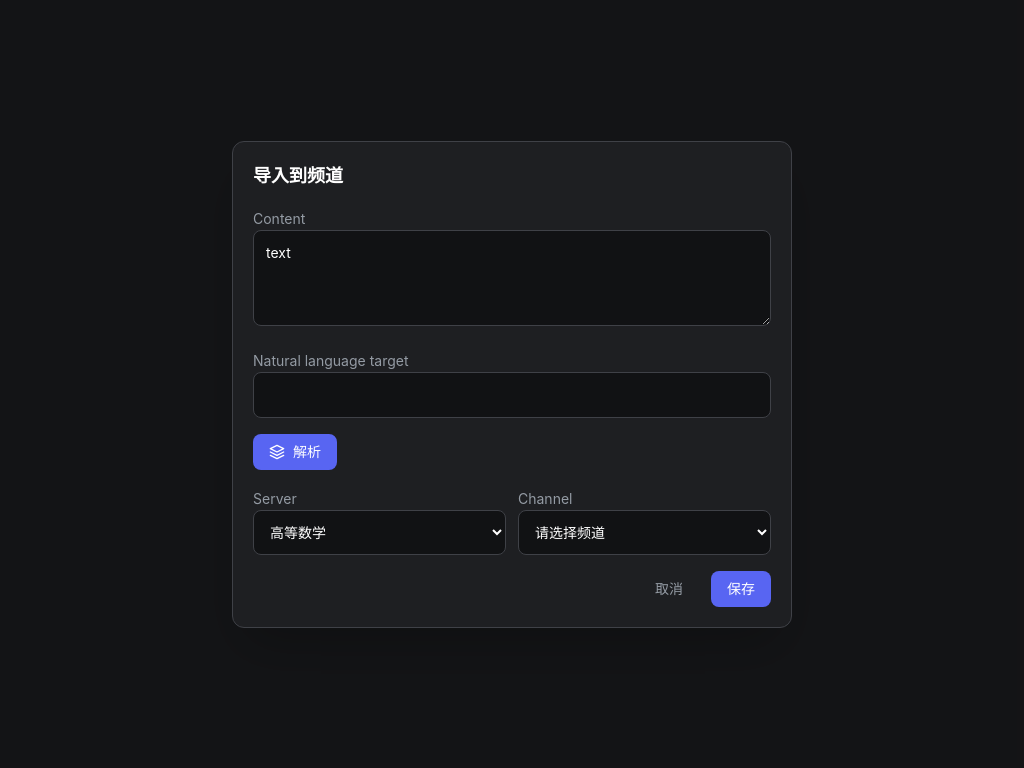
Test: ConsoleImportModal › supports @Server #Channel natural language targeting
Type "@高等数学 #极限" into the field labelled "Natural language target" at (512, 394), box [253, 372, 771, 418]
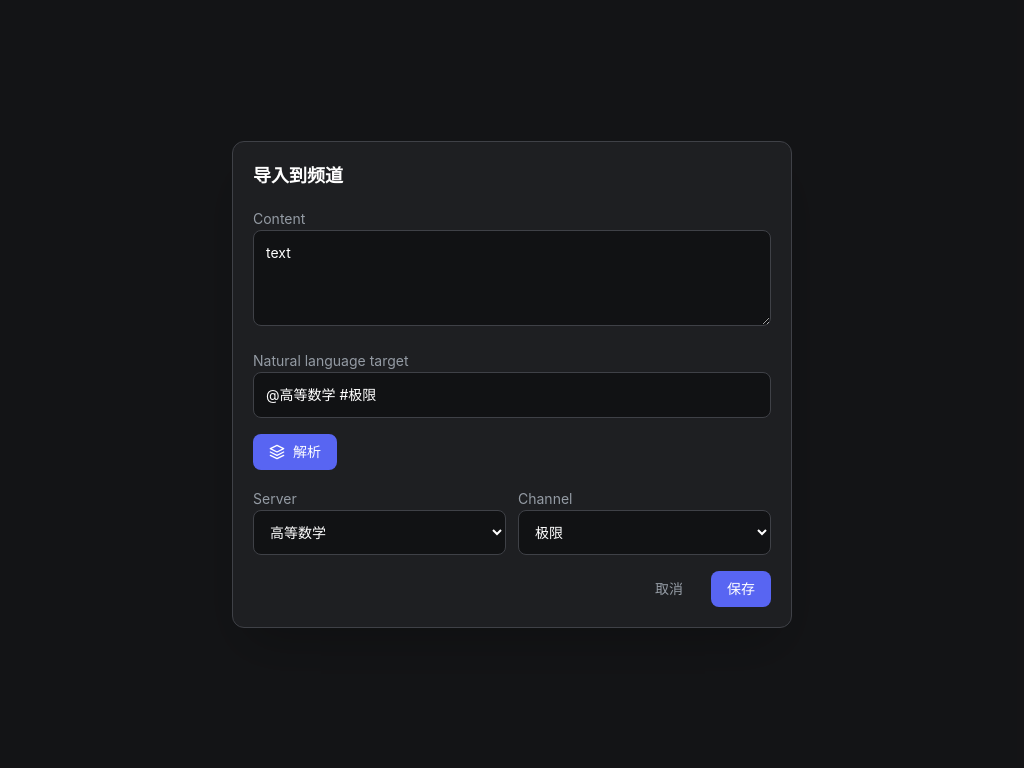
Expected: the dropdown labelled "Server" shows "高等数学", [253, 510, 506, 554]
Expected: the dropdown labelled "Channel" shows "极限", [518, 510, 771, 554]
